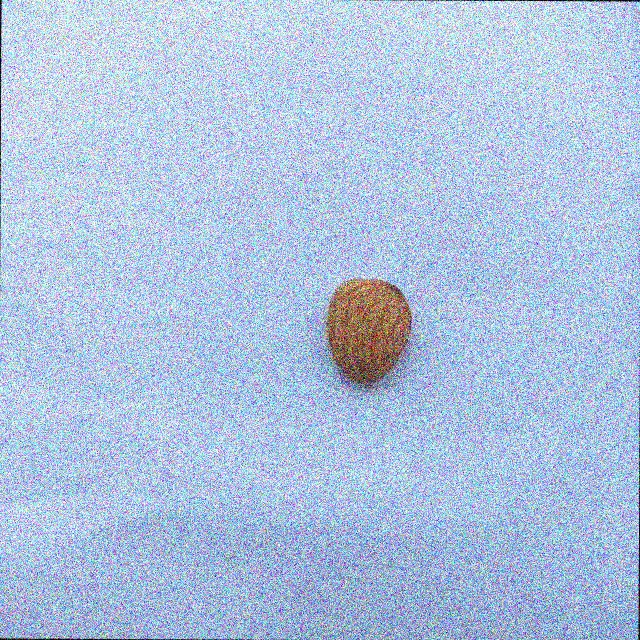grade1: (316, 272, 418, 394)
